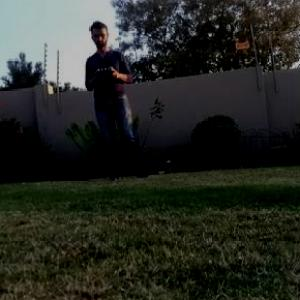follow: (83, 13, 155, 183)
